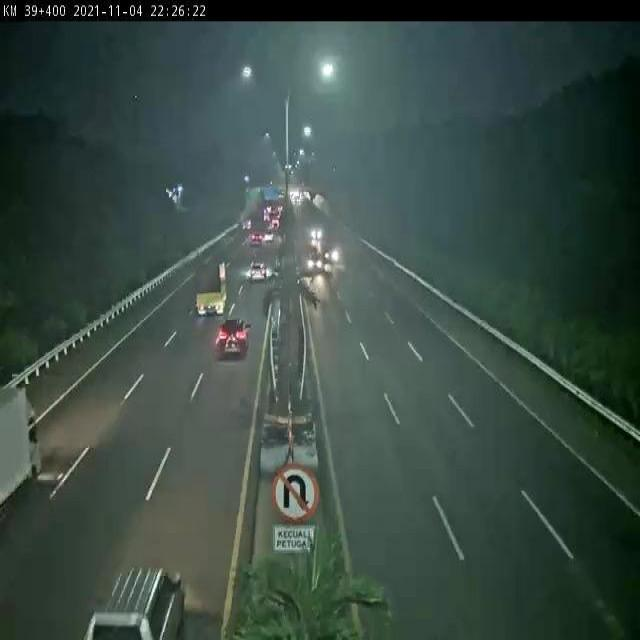car: (86, 566, 186, 640), (216, 317, 248, 356), (249, 260, 267, 281), (307, 253, 323, 272), (322, 244, 337, 263), (309, 224, 325, 237), (251, 231, 262, 244), (264, 231, 273, 241)
truck-m-: (0, 384, 39, 531), (194, 259, 228, 312)
